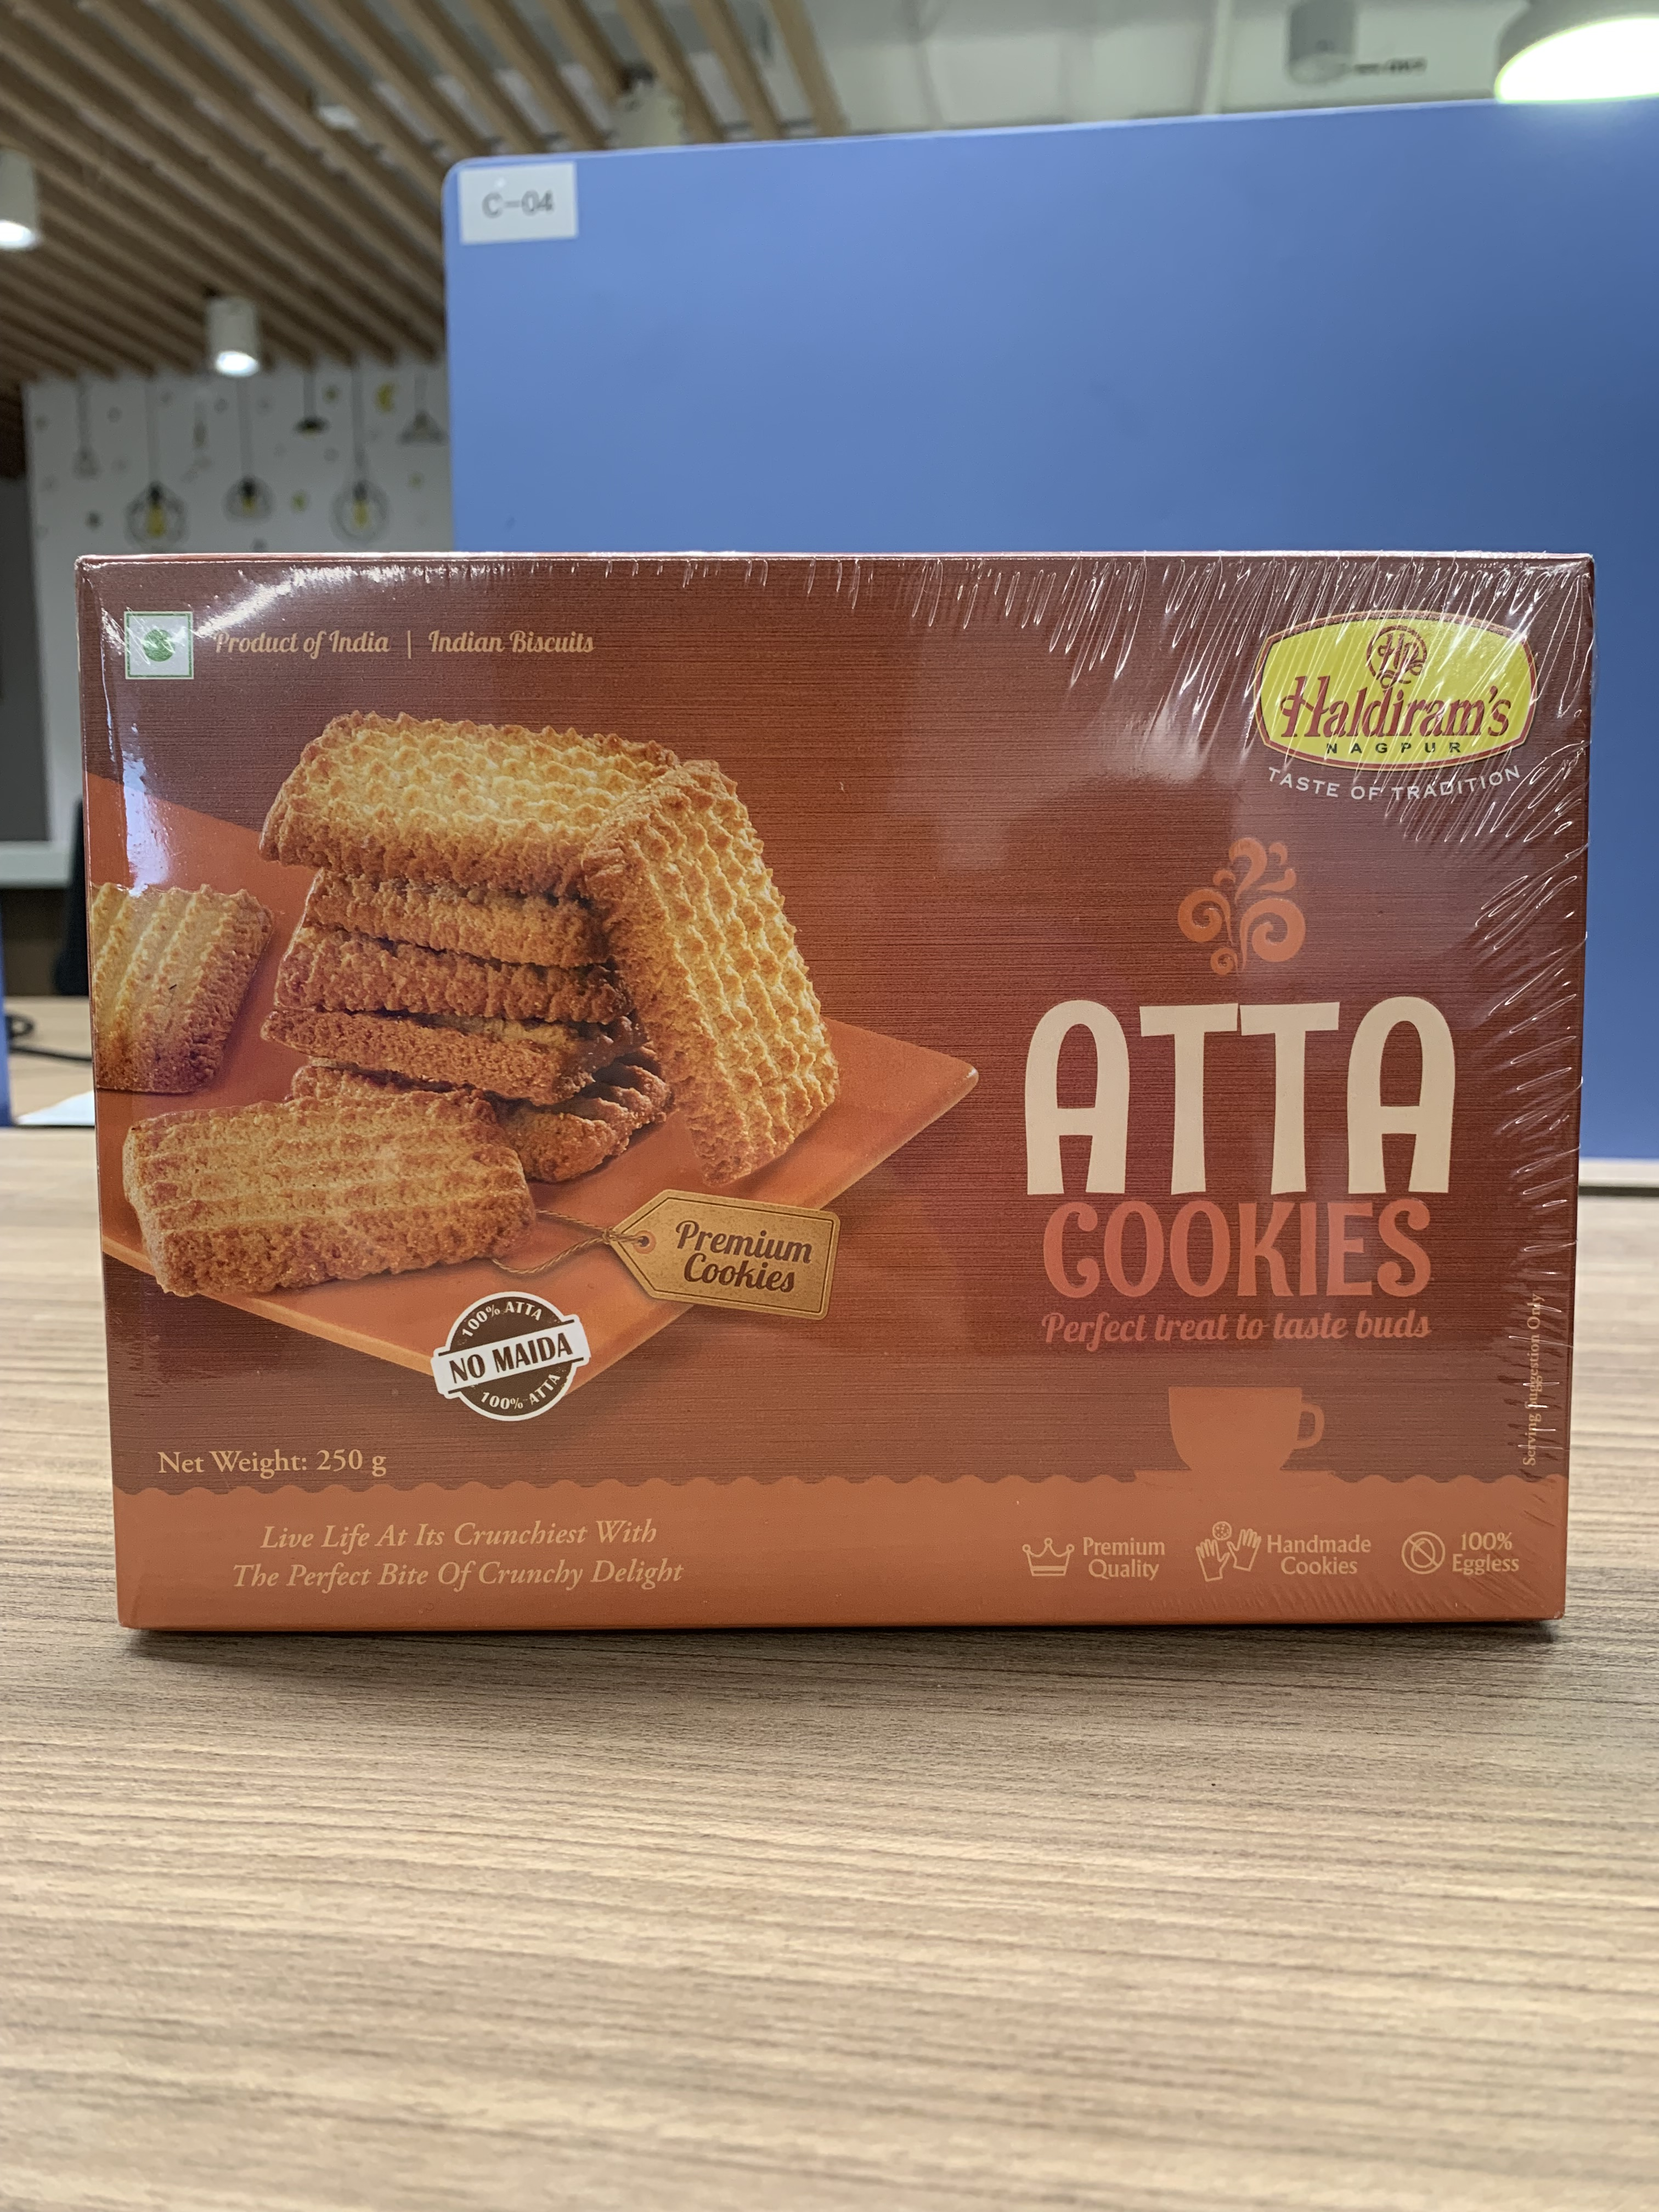cookies: (63, 538, 1607, 1655)
